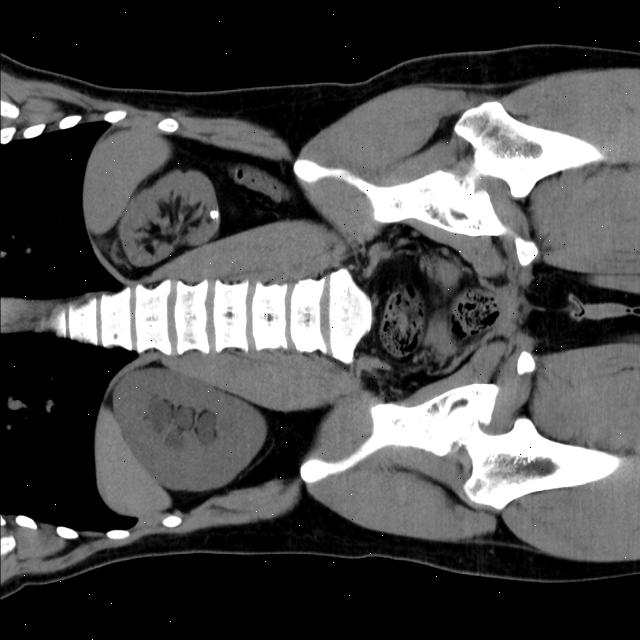kidneystone: (210, 209, 219, 218)
